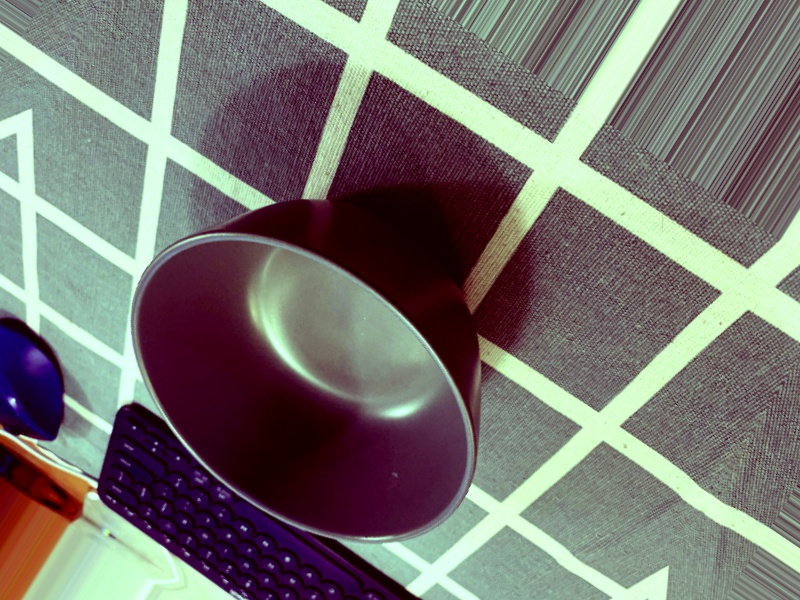bowl_big: (63, 108, 572, 599)
